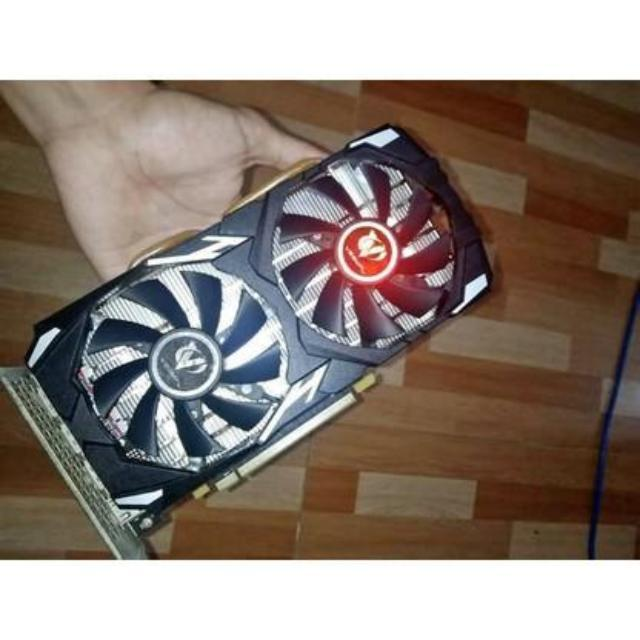GPU: (31, 115, 494, 540)
